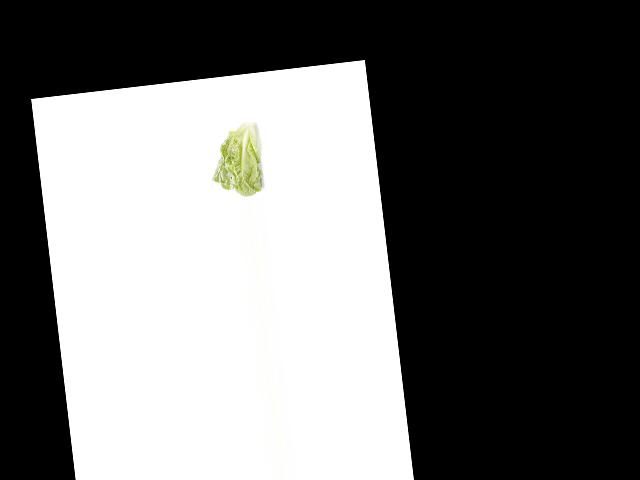lettuce: (205, 116, 275, 200)
